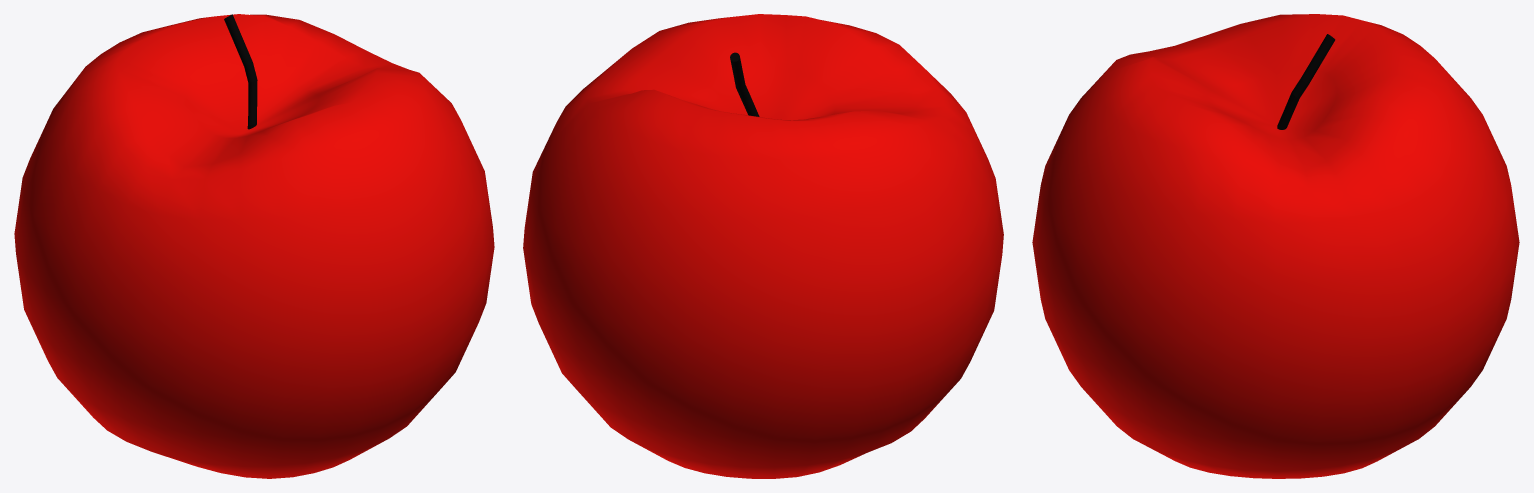
Rendered from elma.fbx.
3 renders of one model, left to right at view 1: azimuth 30°, elevation 25°; view 2: azimuth 150°, elevation 25°; view 3: azimuth 270°, elevation 25°, orthographic.
Visible parts, largest first — view 1: Sphere, Cylinder; view 2: Sphere, Cylinder; view 3: Sphere, Cylinder.
Part boxes in pixels (box(x1,y1,x2,y2)): Sphere: box(14, 14, 494, 478); Cylinder: box(224, 14, 257, 129); Sphere: box(523, 14, 1003, 478); Cylinder: box(730, 52, 759, 116); Sphere: box(1032, 14, 1519, 478); Cylinder: box(1277, 34, 1335, 129).
Size of the model in its own units: 200 by 181 by 200.
